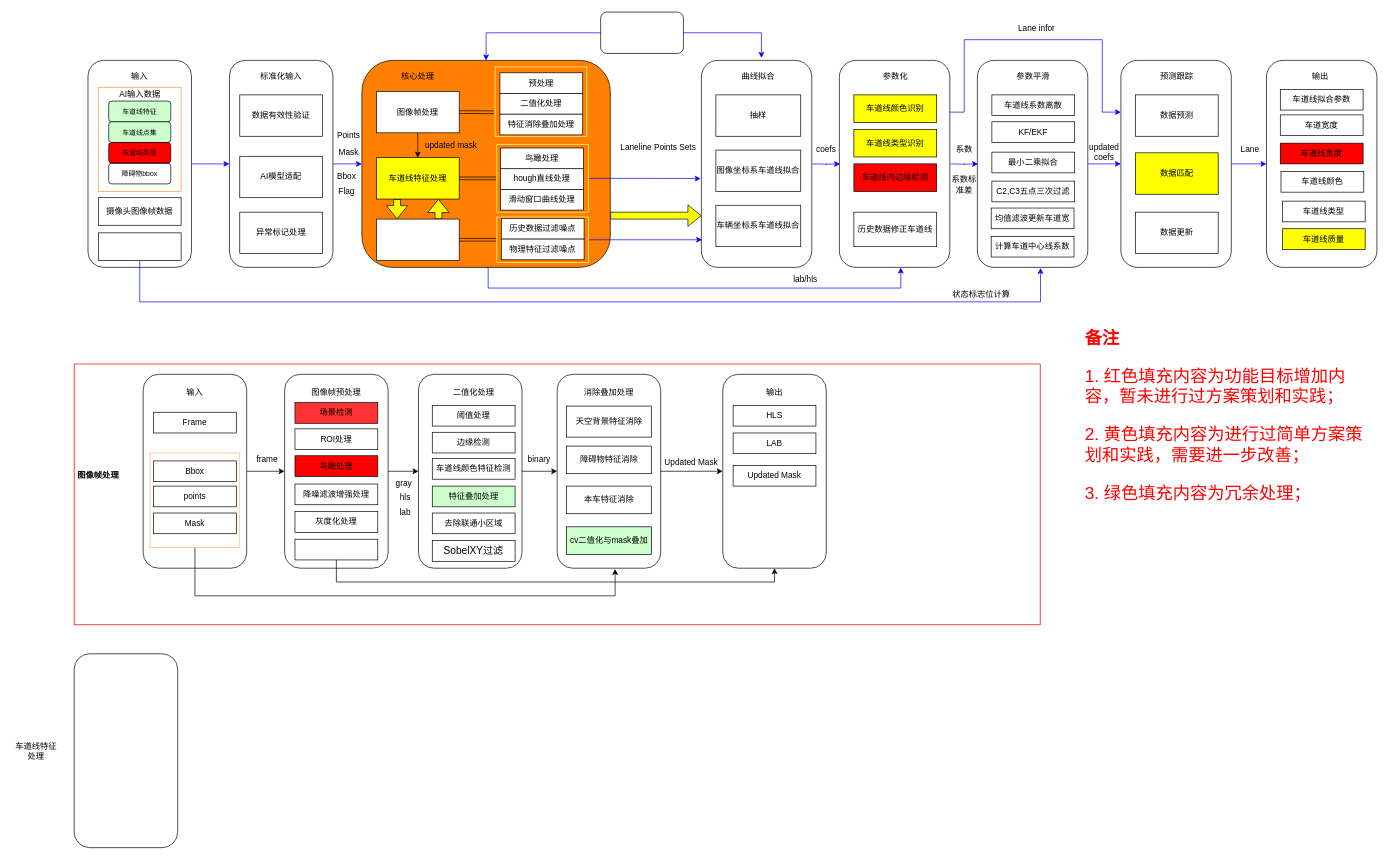
The diagram is 1390 pixels wide and 860 high, and some of its shapes have lost their labels. The shapes that lost their labels are listed below. From the top down, each one's centre as x and y in pixels, then its label:
At point 641,32: "摄像头内外标定参数".
At point 139,246: "本车状态数据".
At point 417,239: "车道线点集处理".
At point 336,549: "HLS/LAB处理".
